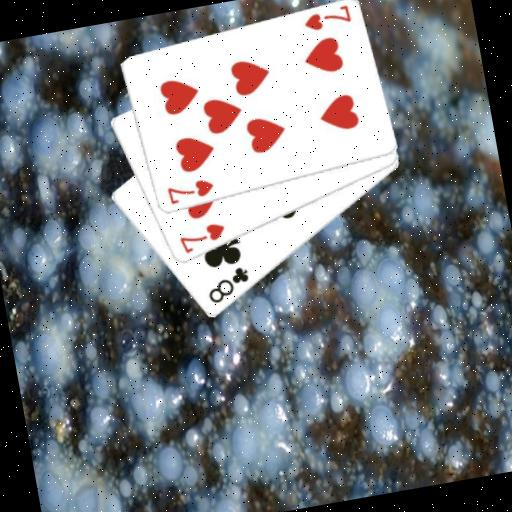7H: (174, 219, 229, 256), (163, 175, 217, 207), (299, 2, 353, 34)
8C: (200, 262, 254, 307)
